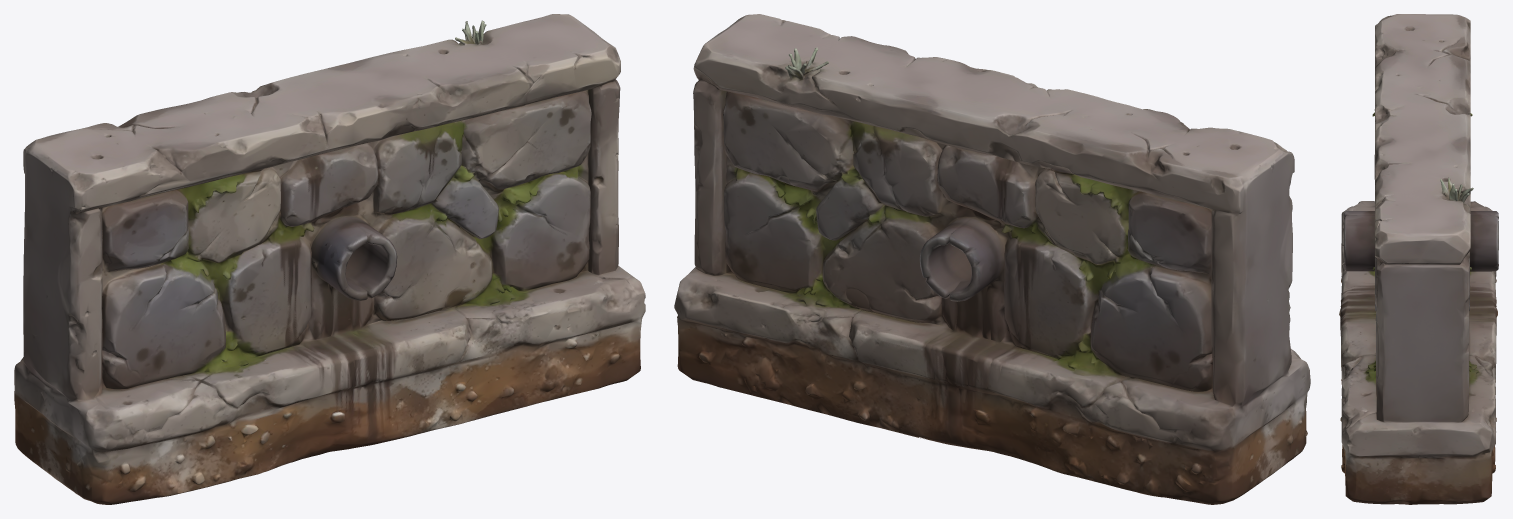
The model's file is retaining_wall.glb.
3 views of the same model, side by side, from view 1: azimuth 30°, elevation 25°; view 2: azimuth 150°, elevation 25°; view 3: azimuth 270°, elevation 25° (orthographic). The views are drawn at different scales.
Parts seen in each view (by area): view 1: tripo_node_7004d96c-de6e-4373-a801-60e9340daa13; view 2: tripo_node_7004d96c-de6e-4373-a801-60e9340daa13; view 3: tripo_node_7004d96c-de6e-4373-a801-60e9340daa13.
Part boxes in pixels (box(x1,y1,x2,y2)): tripo_node_7004d96c-de6e-4373-a801-60e9340daa13: box(14, 14, 645, 504); tripo_node_7004d96c-de6e-4373-a801-60e9340daa13: box(674, 14, 1310, 504); tripo_node_7004d96c-de6e-4373-a801-60e9340daa13: box(1339, 14, 1498, 504).
Bounding box in the file's own units: 0.9806 × 0.5714 × 0.2901.
Materials: 1 (1 with a texture image).
